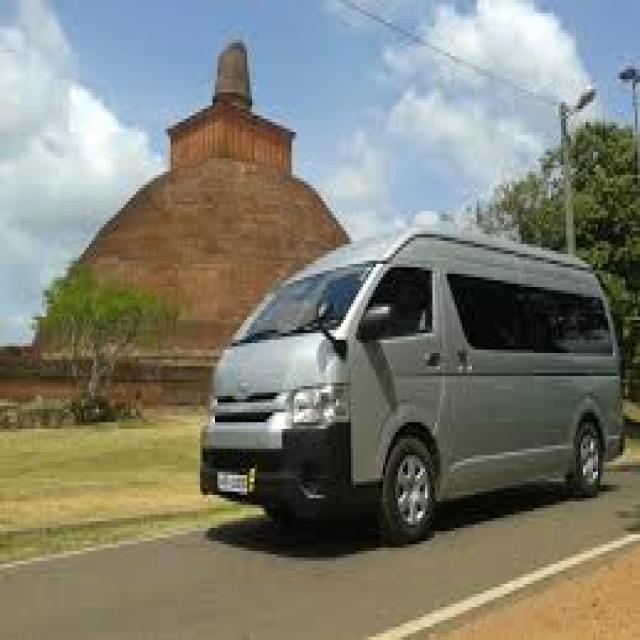van: (203, 231, 620, 541)
